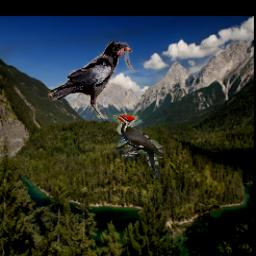Crow: (49, 38, 137, 119)
Woodpecker: (109, 113, 164, 178)
